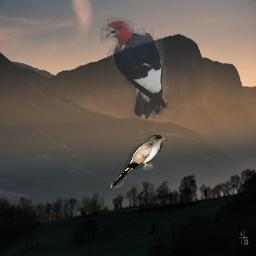Cuckoo: (110, 135, 168, 188)
Woodpecker: (100, 16, 172, 119)
